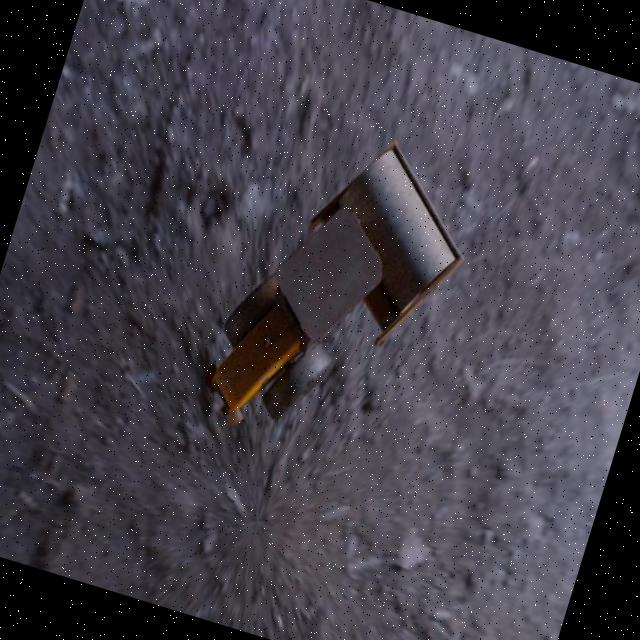Roller: (192, 106, 491, 476)
